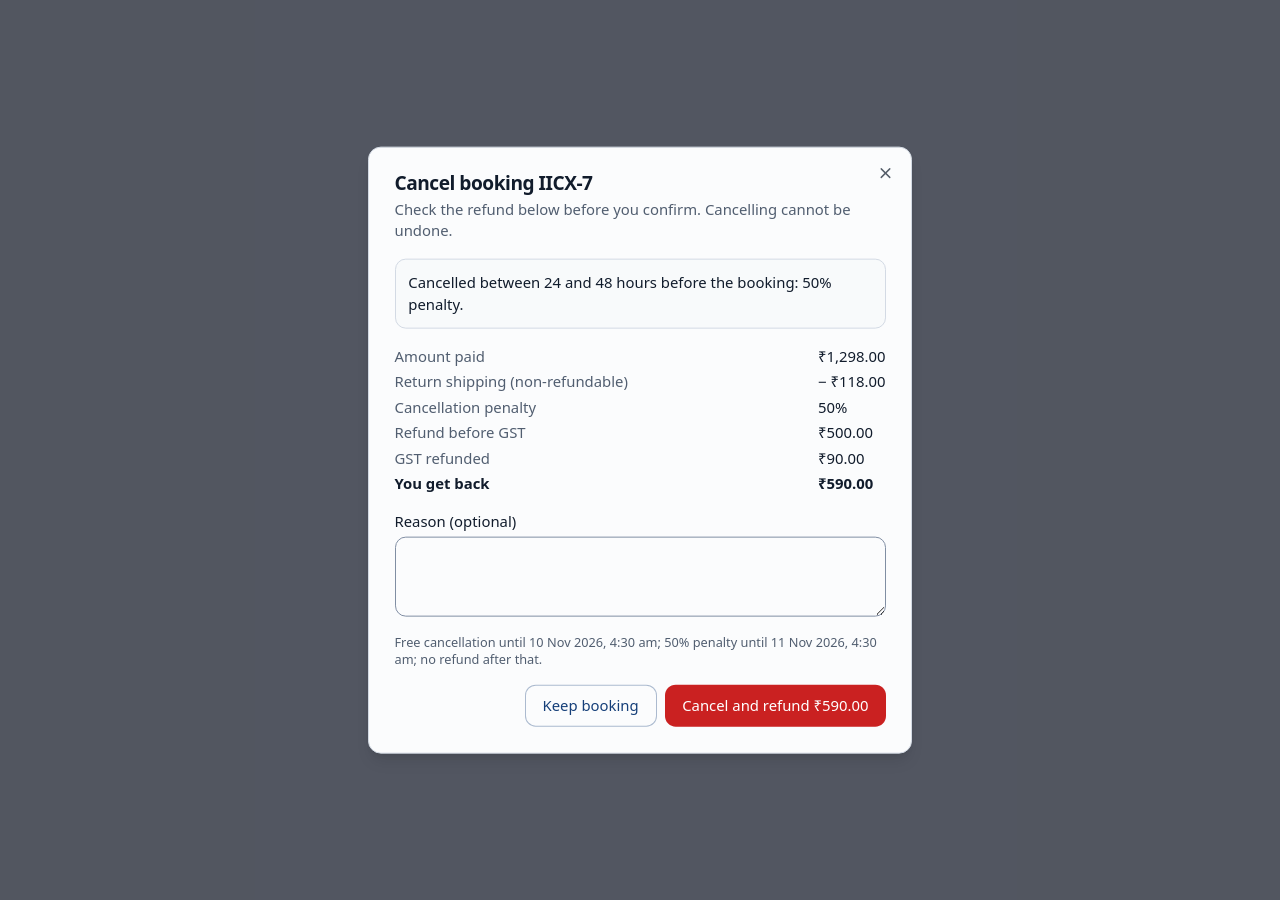
it: ExternalCancelDialog › reloads the quote when the amount changed while the dialog was open
Click the button with test id "confirm-cancel": {"x": 775, "y": 706} [665,684,886,727]
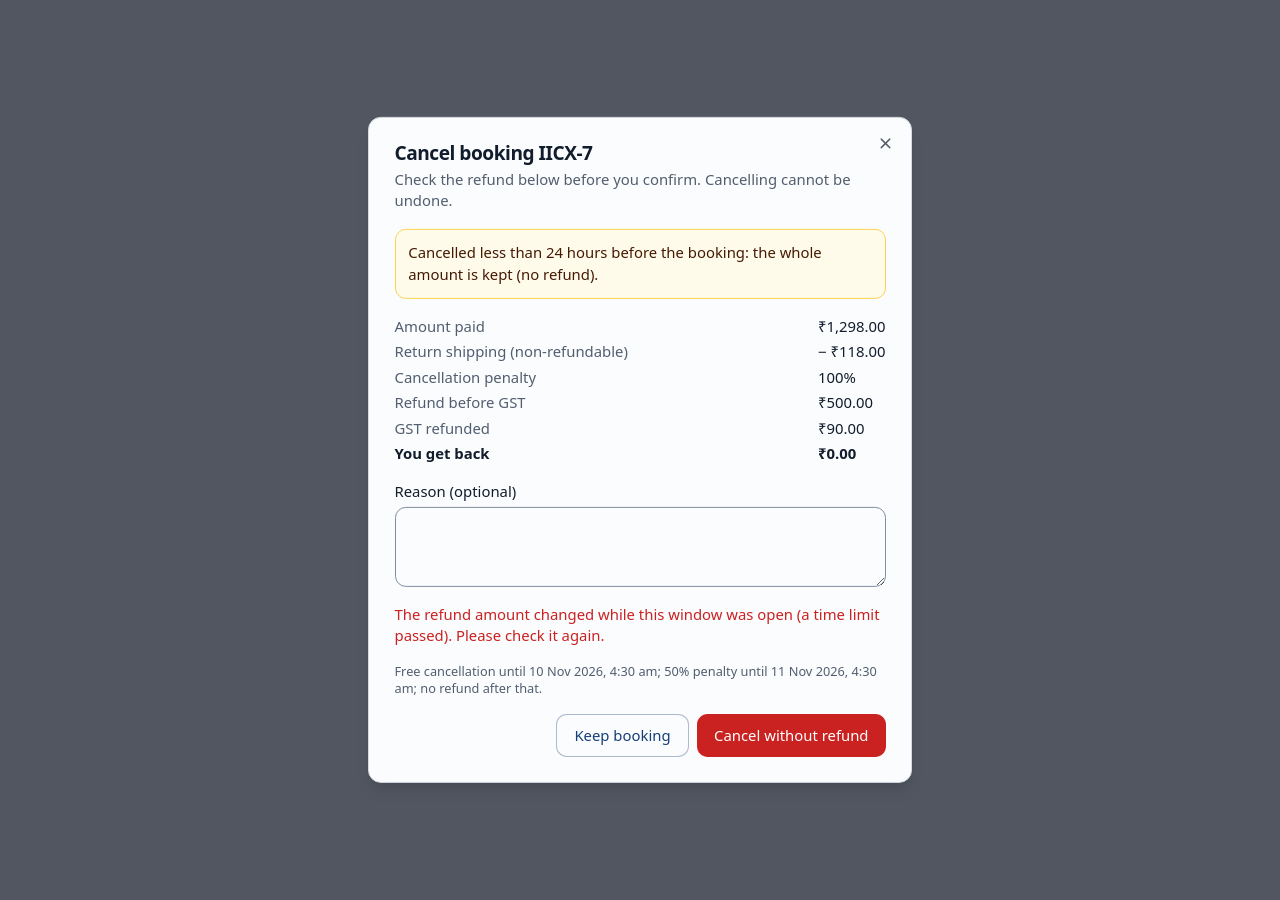
expect the text "refund amount changed" is shown: met, box [394,604,880,645]
